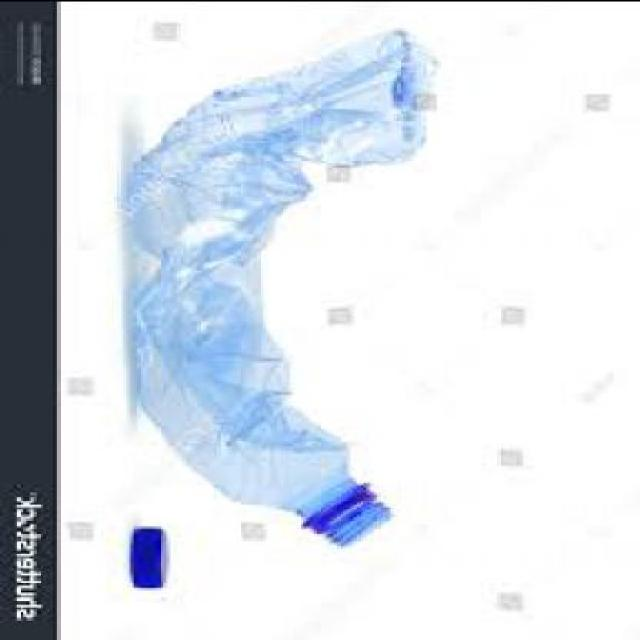PLASTIC: (130, 29, 444, 549), (133, 528, 170, 589)
